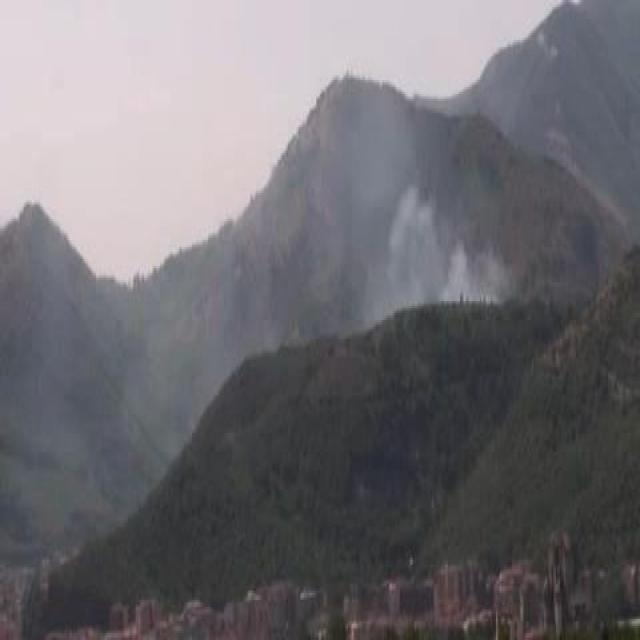Smoke: (306, 115, 510, 308)
